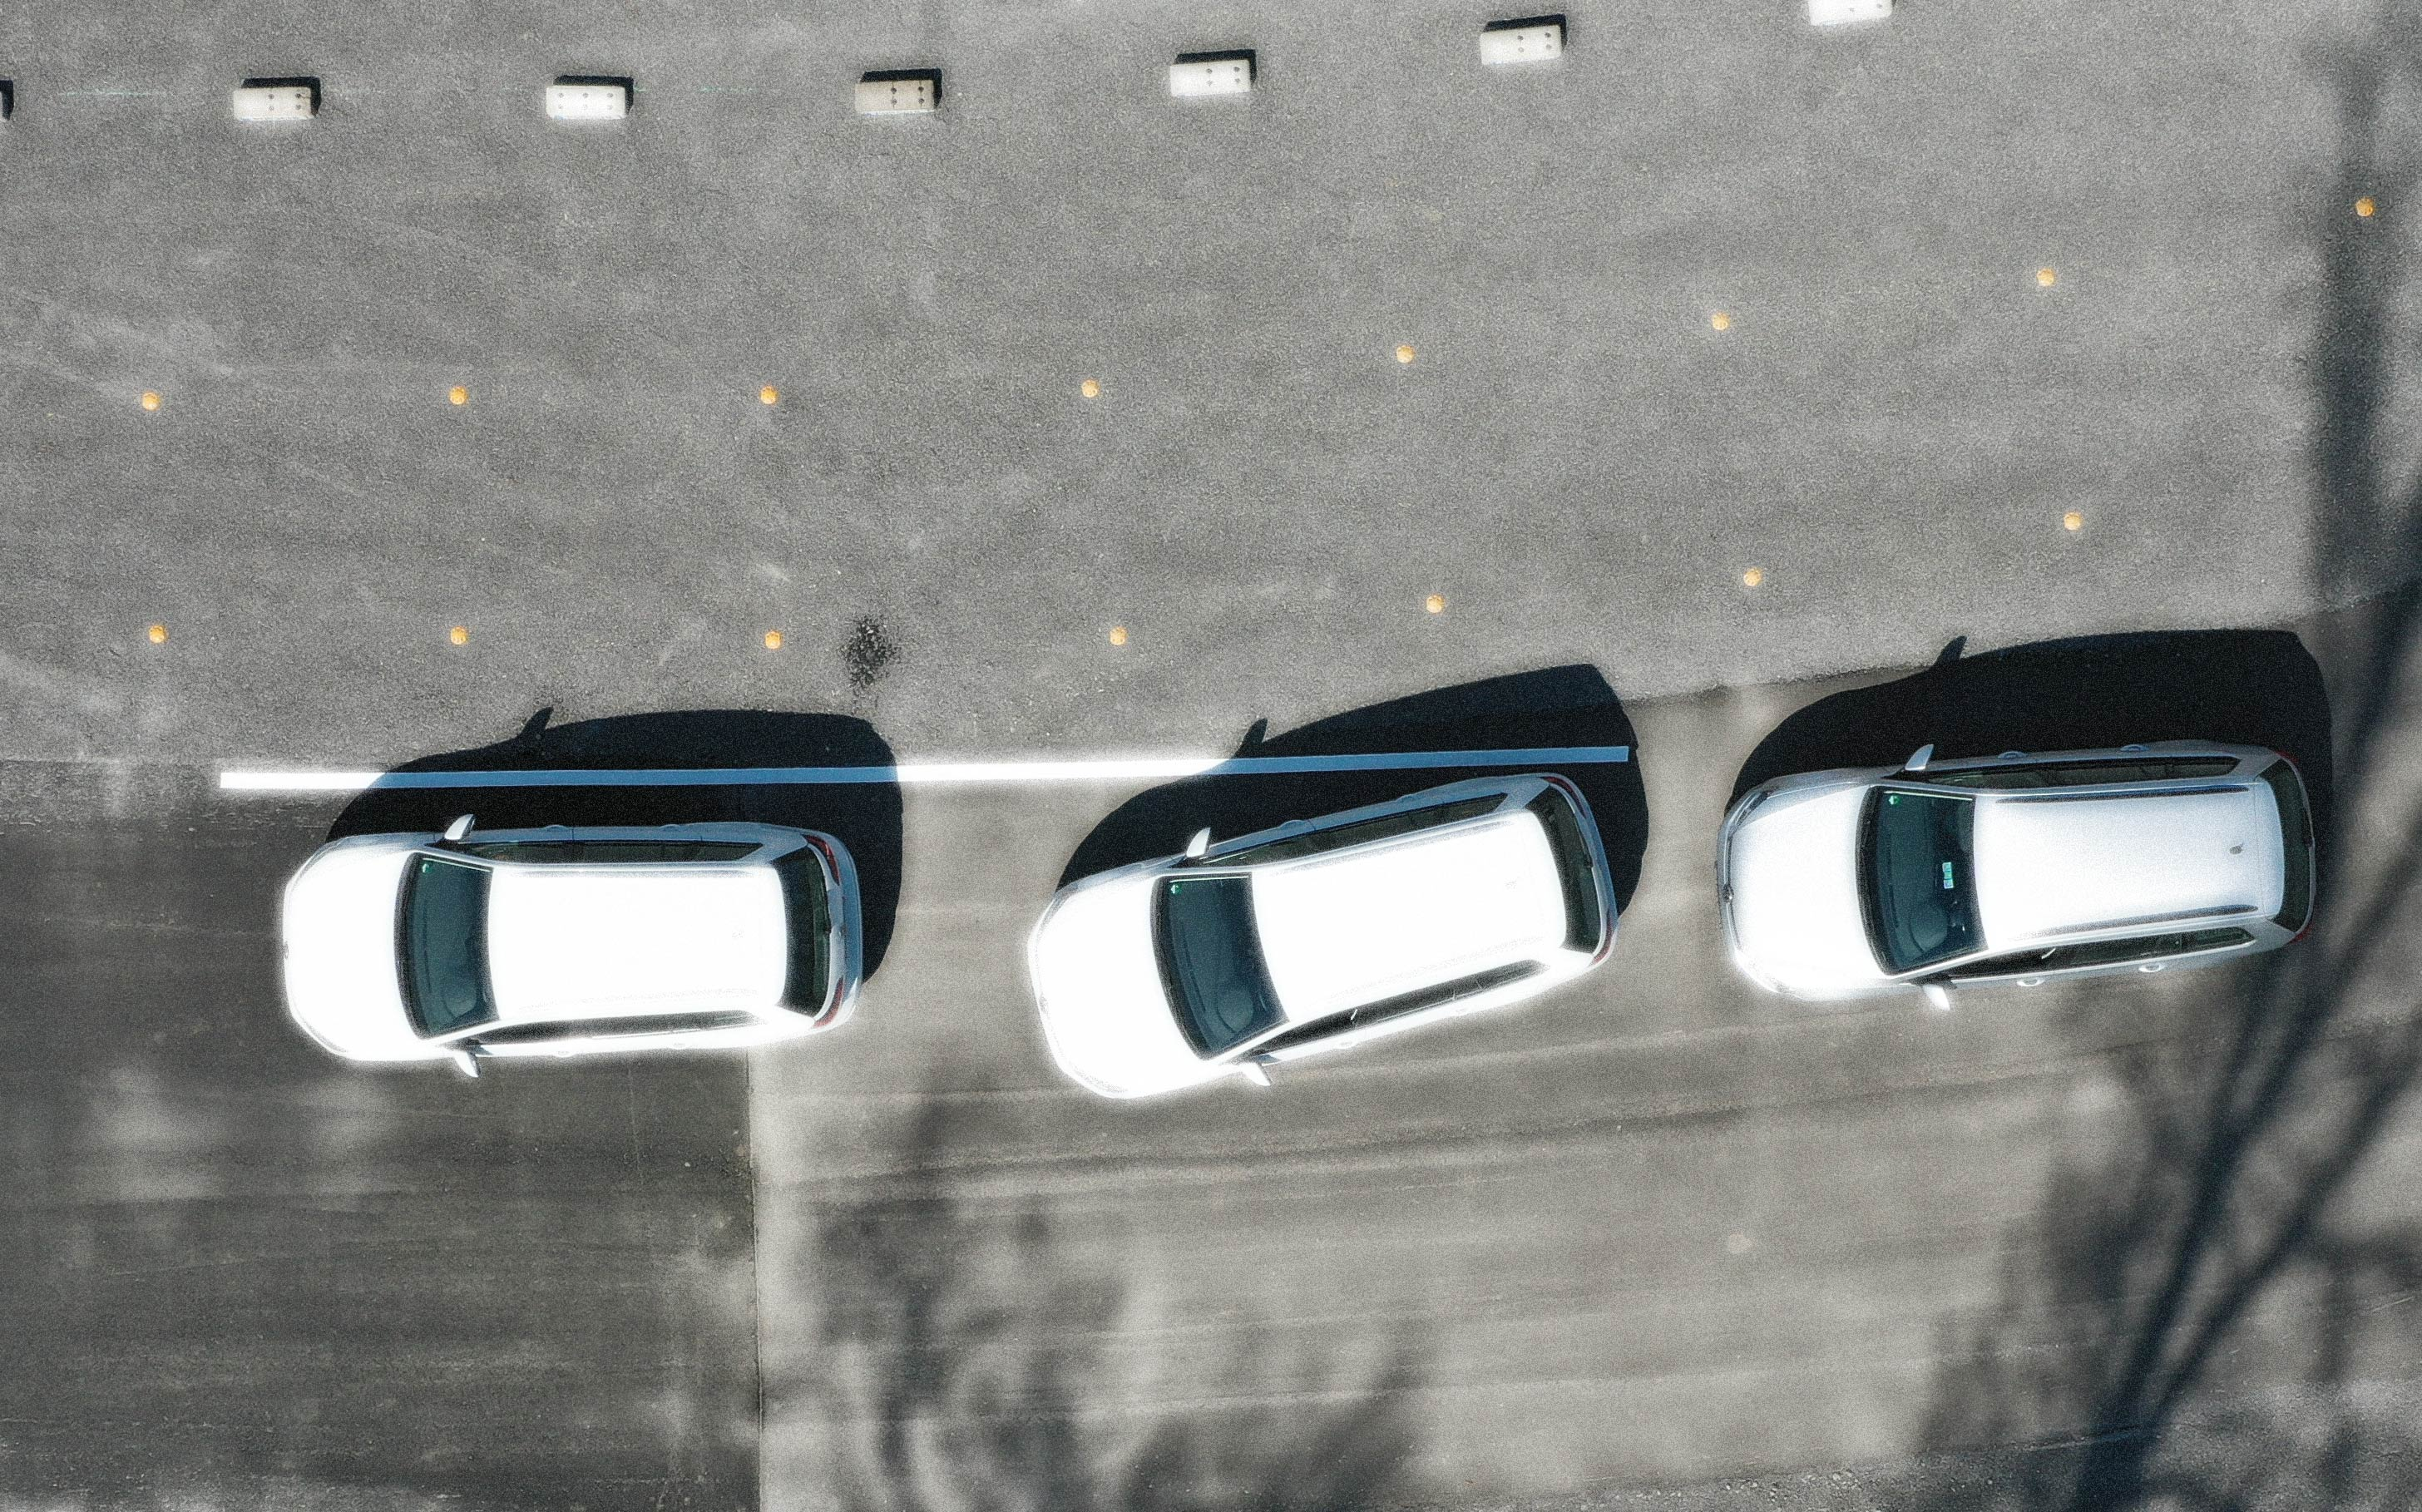Car: (1010, 791, 1633, 1117), (1720, 732, 2330, 1016), (261, 812, 878, 1089)
LaneMark: (221, 744, 1635, 791)
